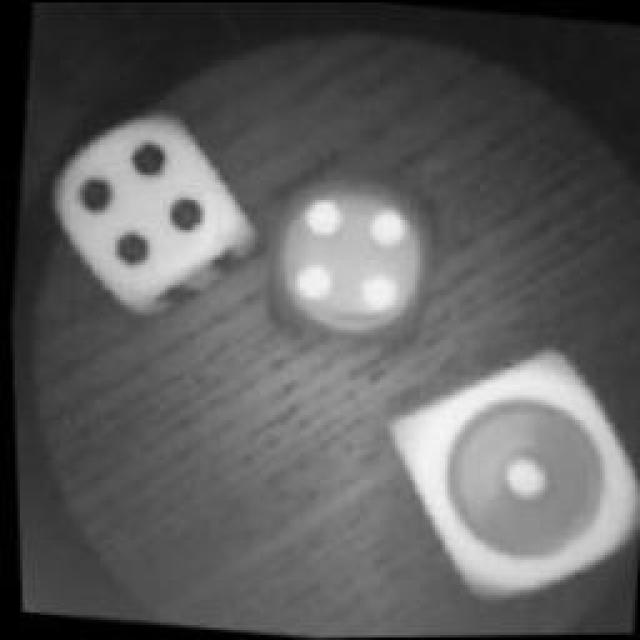dice_1: (365, 337, 640, 605)
dice_4: (35, 104, 255, 314), (244, 161, 436, 341)
